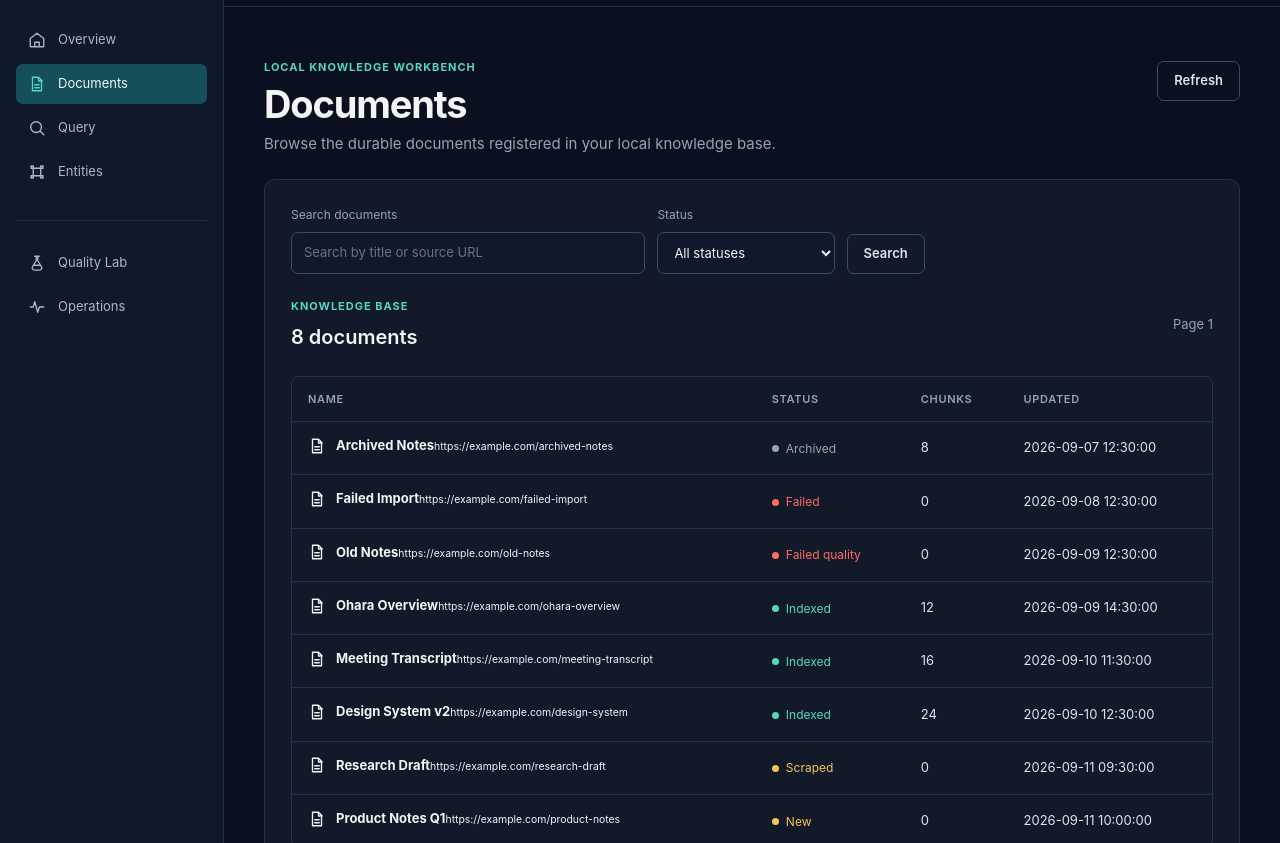
App shell › renders the Operations metrics snapshot
Click the link "Operations": click(77, 306) x1=28 y1=298 x2=125 y2=316
(page scrolled)
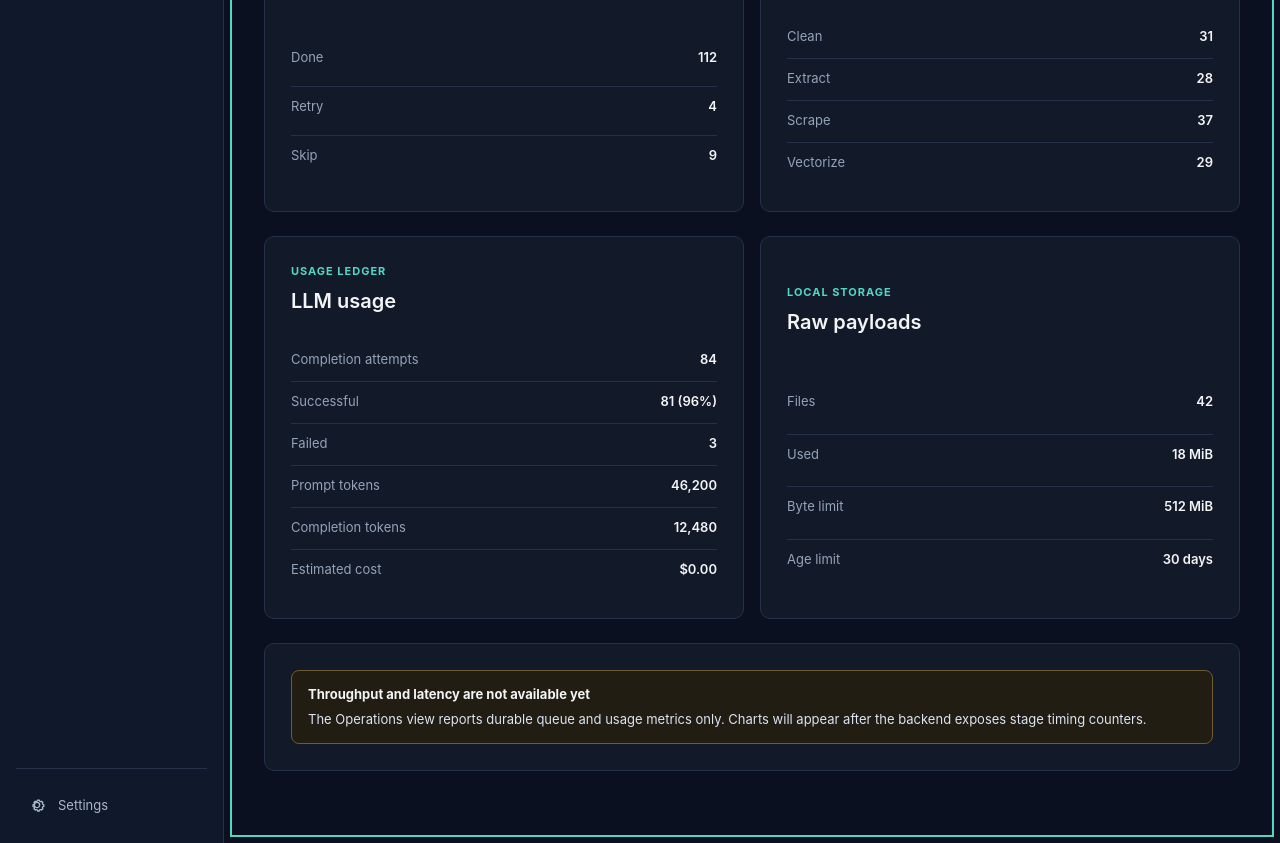
Expected: the heading "LLM usage" is shown, x1=291 y1=286 x2=396 y2=316
Expected: the text "Throughput and latency are not available yet" is shown, x1=308 y1=686 x2=590 y2=702
